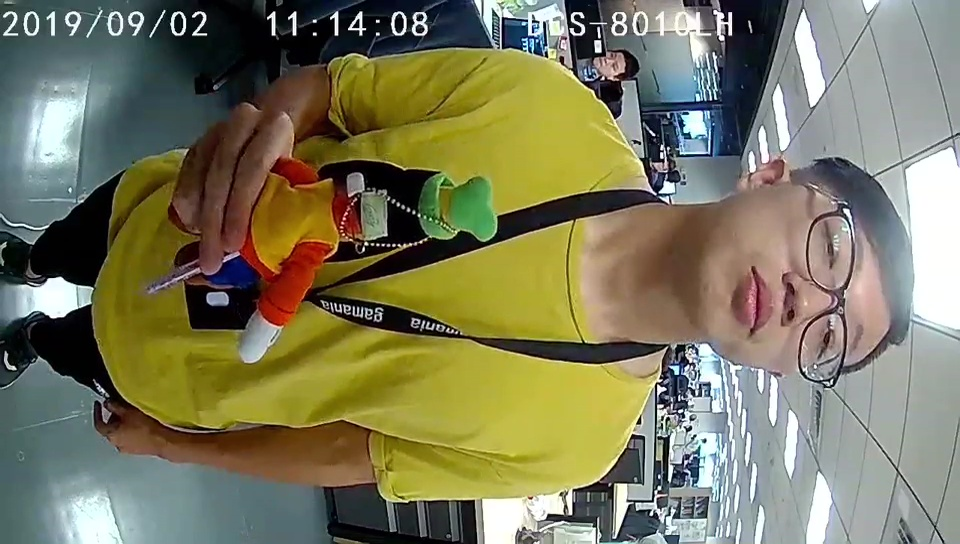goofy: (238, 172, 498, 366)
